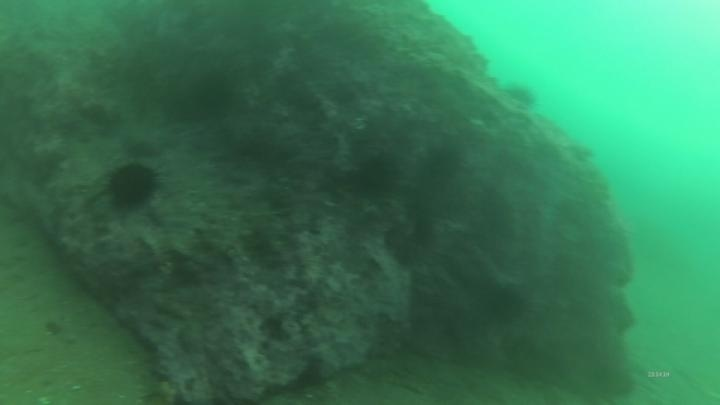echinus: (103, 160, 162, 212), (188, 69, 238, 119), (351, 152, 401, 201), (417, 143, 465, 191), (481, 282, 529, 326), (501, 80, 539, 112)
holothurian: (240, 199, 291, 271)
